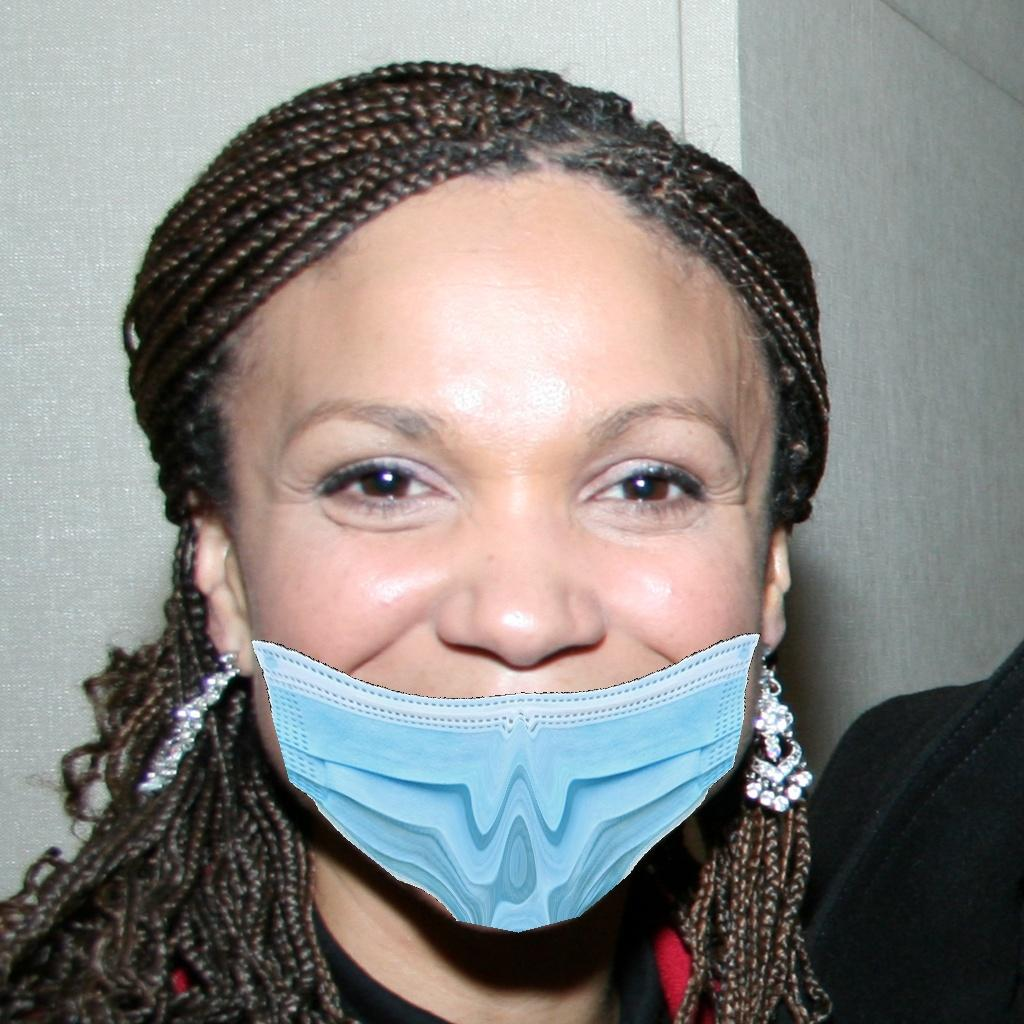Máscara Incorreta: (186, 187, 791, 887)
